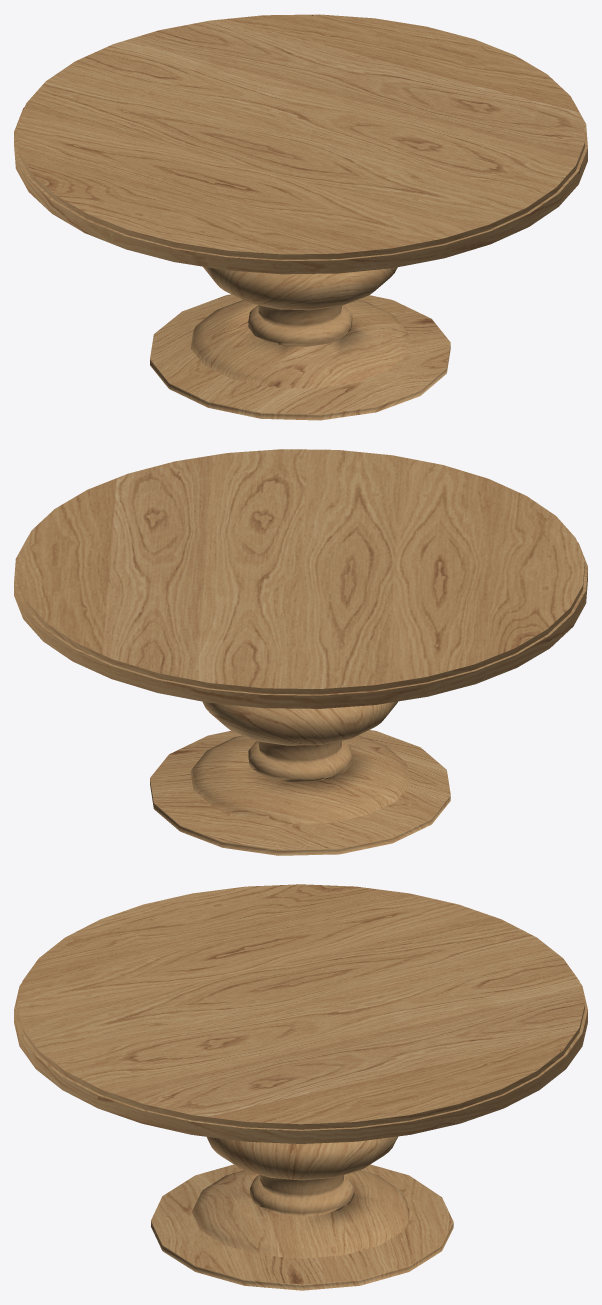
Rendered from round_table.glb.
The picture shows the model from 3 angles, top to bottom: view 1: azimuth 30°, elevation 25°; view 2: azimuth 150°, elevation 25°; view 3: azimuth 270°, elevation 25°; orthographic projection.
Visible parts, largest first — view 1: сircle, leg; view 2: сircle, leg; view 3: сircle, leg.
Part boxes in pixels (x1,y1,x2,y2): сircle: (14,14,587,274); leg: (150,266,450,420); сircle: (14,449,587,708); leg: (150,701,450,855); сircle: (14,884,587,1143); leg: (151,1136,453,1290).
Size of the model in its own units: 2.37 by 1.01 by 2.37.
1 material, 1 textured.
